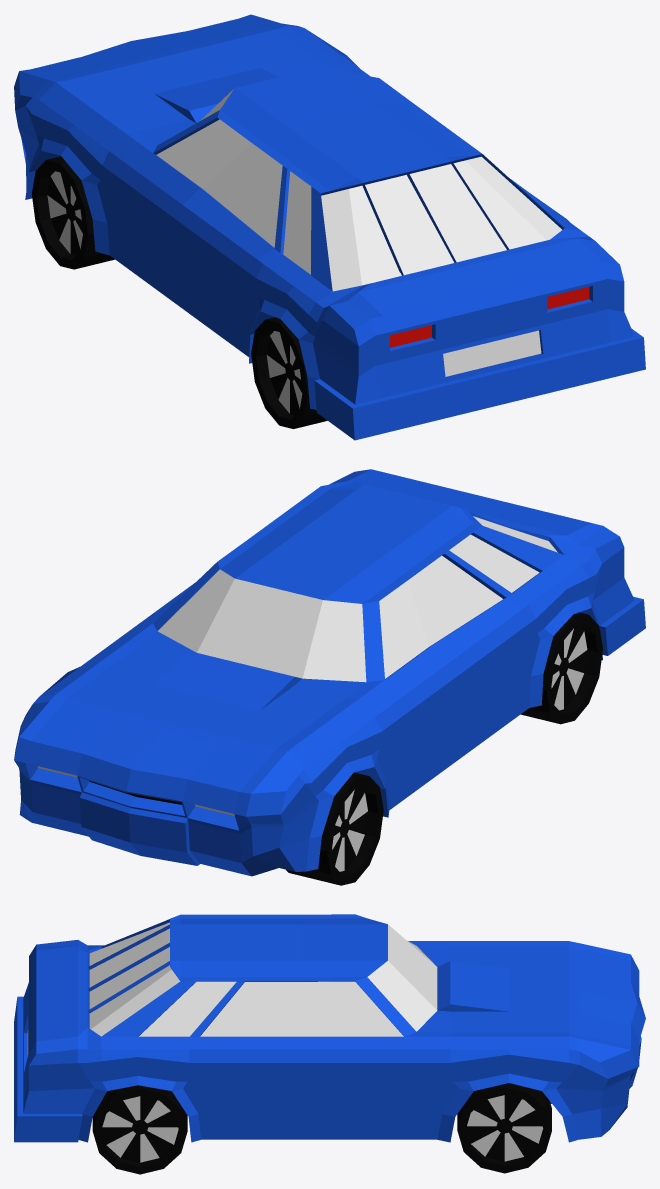
The model's file is auyko2.fbx.
3 renders of one model, top to bottom at view 1: azimuth 30°, elevation 25°; view 2: azimuth 150°, elevation 25°; view 3: azimuth 270°, elevation 25°, orthographic. The views are drawn at different scales.
Visible parts, largest first — view 1: Cube, Cube.001, Cube.004; view 2: Cube, Cube.001, Cube.004; view 3: Cube, Cube.002, Cube.003.
Part boxes in pixels (x1=…): Cube: x1=14, y1=14, x2=645, y2=440; Cube.001: x1=32, y1=156, x2=114, y2=269; Cube.004: x1=251, y1=317, x2=327, y2=428; Cube: x1=14, y1=469, x2=645, y2=876; Cube.001: x1=286, y1=772, x2=383, y2=885; Cube.004: x1=521, y1=612, x2=602, y2=724; Cube: x1=14, y1=914, x2=645, y2=1142; Cube.002: x1=457, y1=1083, x2=551, y2=1173; Cube.003: x1=92, y1=1085, x2=187, y2=1174.
Size of the model in its own units: 562 by 371 by 1227.
